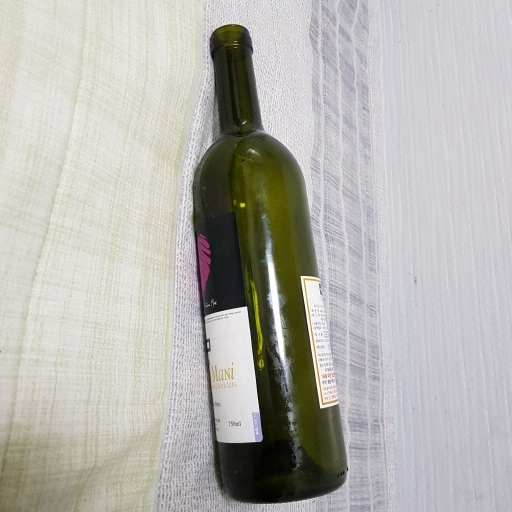Glass_2: (188, 23, 363, 512)
